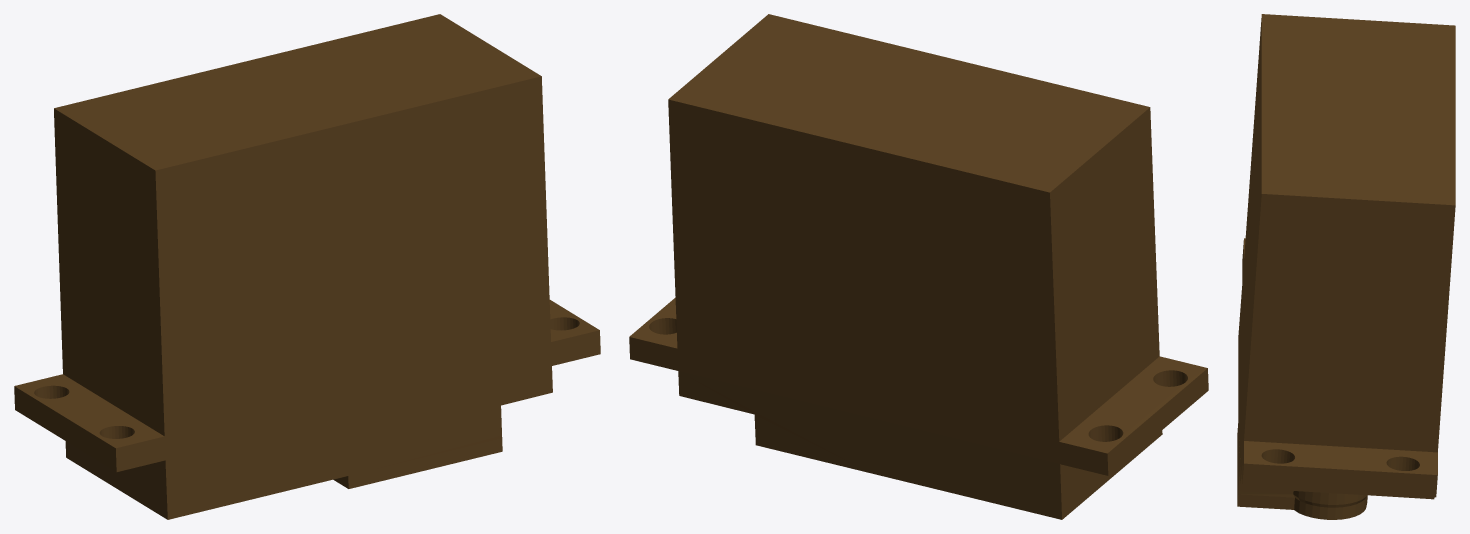
File: left_shoulder_x_link_visual_4.obj
3 renders of one model, left to right at view 1: azimuth 30°, elevation 25°; view 2: azimuth 150°, elevation 25°; view 3: azimuth 270°, elevation 25°, orthographic. The views are drawn at different scales.
Visible parts, largest first — view 1: i01..leftArm.shoulder.full.005_visual.001; view 2: i01..leftArm.shoulder.full.005_visual.001; view 3: i01..leftArm.shoulder.full.005_visual.001.
Boxes of the visible parts, x1=… form: i01..leftArm.shoulder.full.005_visual.001: x1=14, y1=14, x2=600, y2=519; i01..leftArm.shoulder.full.005_visual.001: x1=629, y1=14, x2=1208, y2=519; i01..leftArm.shoulder.full.005_visual.001: x1=1237, y1=14, x2=1455, y2=519.
Size of the model in its own units: 0.7755 by 0.5533 by 0.3176.
